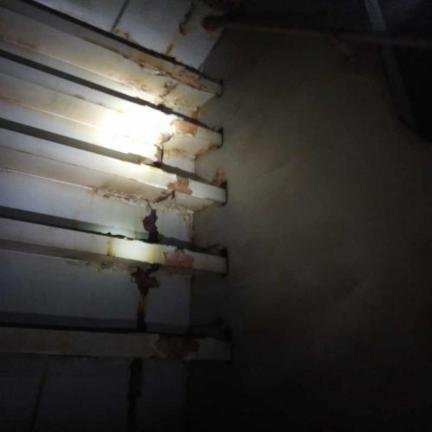karat: (160, 246, 206, 271)
